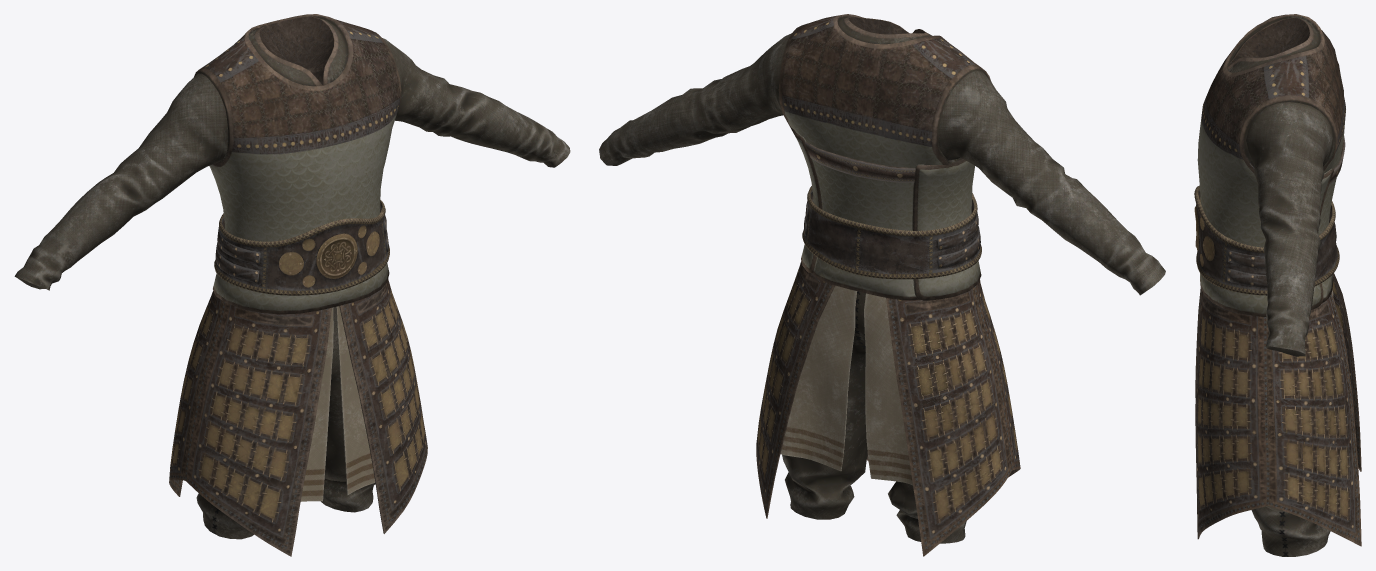
Rendered from dunland_wulf_scalemail_heavy_f.fbx.
3 views of the same model, side by side, from view 1: azimuth 30°, elevation 25°; view 2: azimuth 150°, elevation 25°; view 3: azimuth 270°, elevation 25° (orthographic). The views are drawn at different scales.
Parts seen in each view (by area): view 1: dunland_wulf_scalemail_heavy_f.2, dunland_wulf_scalemail_heavy_f.3, dunland_wulf_scalemail_heavy_f.1; view 2: dunland_wulf_scalemail_heavy_f.2, dunland_wulf_scalemail_heavy_f.3, dunland_wulf_scalemail_heavy_f.1, dunland_wulf_scalemail_heavy_f.0; view 3: dunland_wulf_scalemail_heavy_f.2, dunland_wulf_scalemail_heavy_f.3, dunland_wulf_scalemail_heavy_f.1.
Part boxes in pixels (box(x1,y1,x2,y2)): dunland_wulf_scalemail_heavy_f.2: box(14, 14, 570, 539); dunland_wulf_scalemail_heavy_f.3: box(169, 279, 427, 556); dunland_wulf_scalemail_heavy_f.1: box(214, 200, 389, 295); dunland_wulf_scalemail_heavy_f.2: box(599, 14, 1165, 543); dunland_wulf_scalemail_heavy_f.3: box(756, 261, 1020, 556); dunland_wulf_scalemail_heavy_f.1: box(802, 186, 981, 279); dunland_wulf_scalemail_heavy_f.0: box(805, 142, 915, 182); dunland_wulf_scalemail_heavy_f.2: box(1197, 14, 1345, 556); dunland_wulf_scalemail_heavy_f.3: box(1195, 273, 1361, 546); dunland_wulf_scalemail_heavy_f.1: box(1194, 185, 1339, 295).
Bounding box in the file's own units: 1.38 × 0.3653 × 1.18.
Materials: 4 (4 with a texture image).
